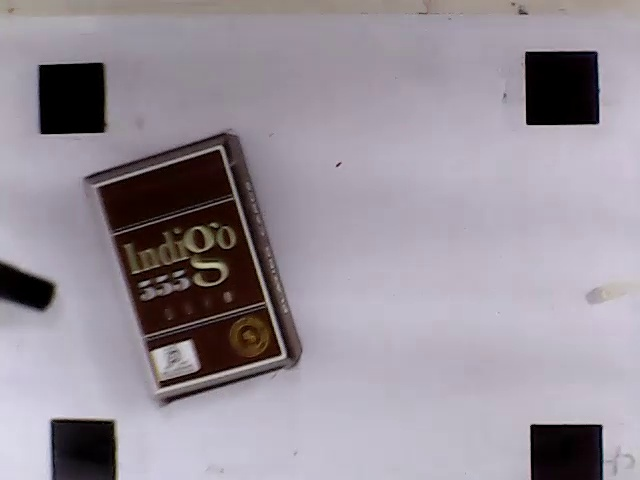BEX: (95, 147, 284, 391)
